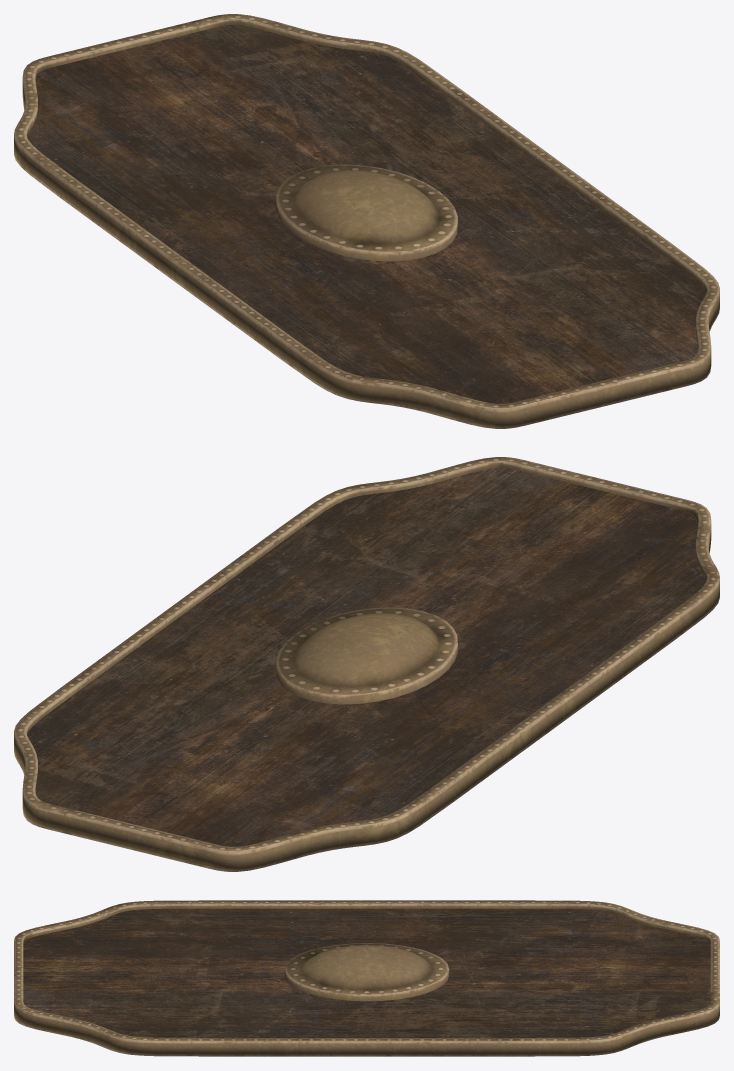
File: dunland_wulf_shield_light_d.fbx
The picture shows the model from 3 angles, top to bottom: view 1: azimuth 30°, elevation 25°; view 2: azimuth 150°, elevation 25°; view 3: azimuth 270°, elevation 25°; orthographic projection. The views are drawn at different scales.
Visible parts, largest first — view 1: dunland_wulf_shield_light_d; view 2: dunland_wulf_shield_light_d; view 3: dunland_wulf_shield_light_d.
Part boxes in pixels (<box>): dunland_wulf_shield_light_d: <box>14,14,719,428</box>; dunland_wulf_shield_light_d: <box>14,457,719,871</box>; dunland_wulf_shield_light_d: <box>14,900,719,1056</box>.
Size of the model in its own units: 0.72 by 1.52 by 0.0806.
1 material, 1 textured.
